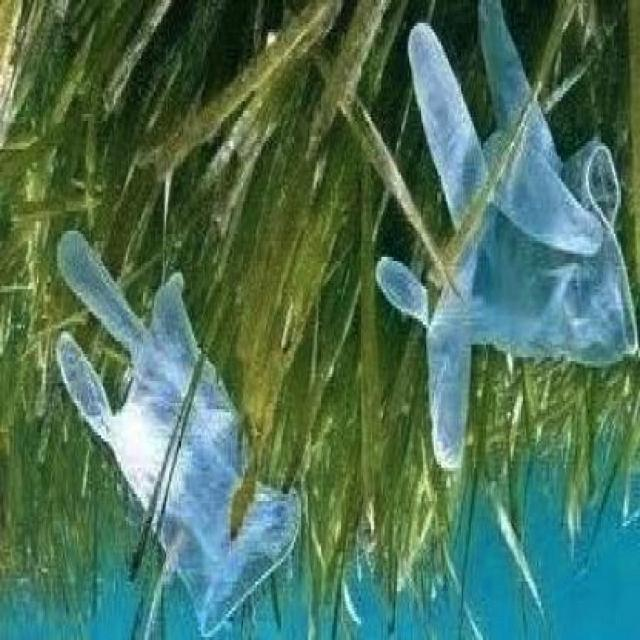glove: (375, 0, 637, 477), (54, 211, 308, 637)
